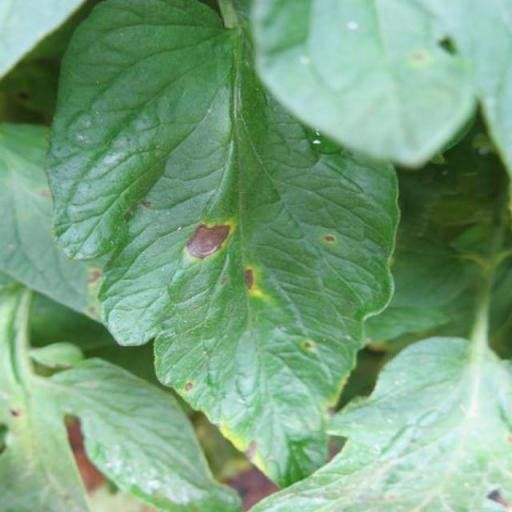disease_tomato: (47, 0, 401, 483)
